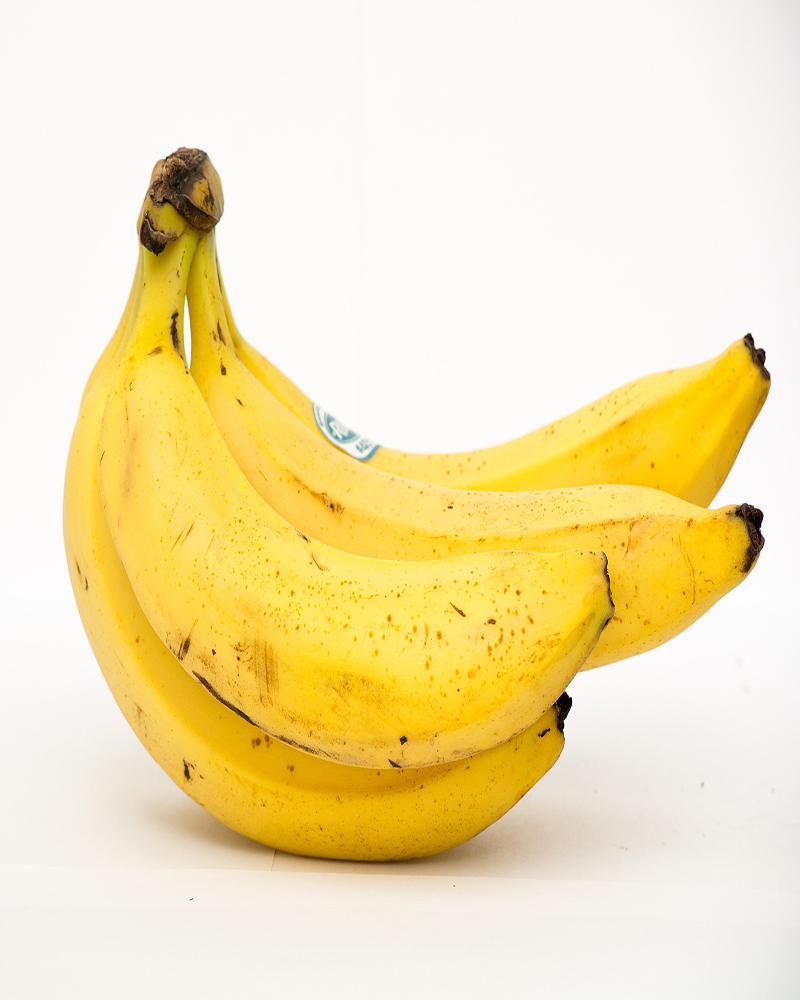looks_good: (10, 100, 800, 922)
